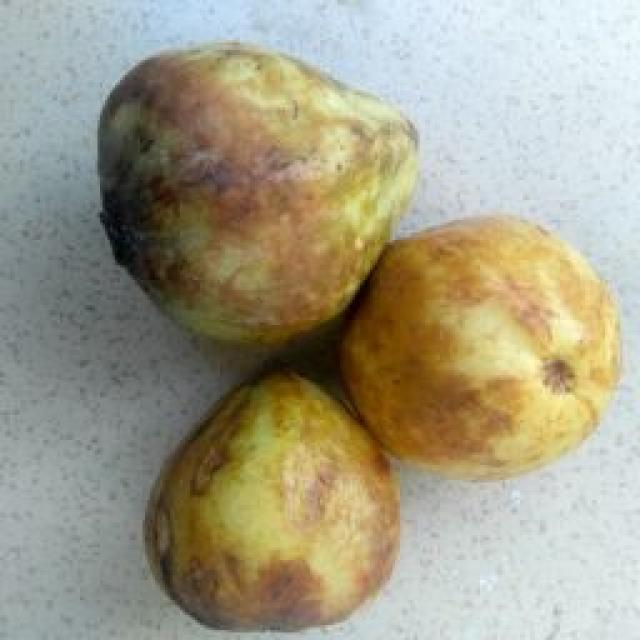Bad_Guava: (99, 42, 418, 343), (146, 372, 399, 629)
